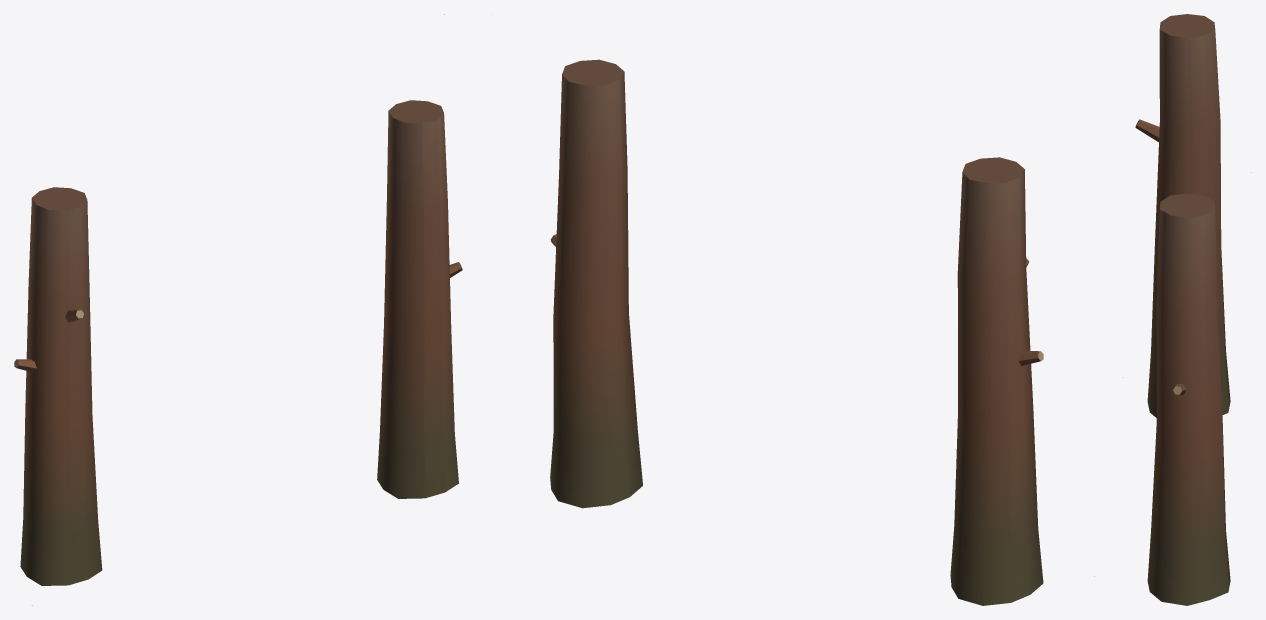
The model's file is CreekGateArch_bark.glb.
The picture shows the model from 3 angles, left to right: view 1: azimuth 30°, elevation 25°; view 2: azimuth 150°, elevation 25°; view 3: azimuth 270°, elevation 25°; orthographic projection. The views are drawn at different scales.
Visible parts, largest first — view 1: CreekGateArch_bark; view 2: CreekGateArch_bark; view 3: CreekGateArch_bark.
Part boxes in pixels (x1,y1,x2,y2): CreekGateArch_bark: (14,14,462,605); CreekGateArch_bark: (550,59,1094,605); CreekGateArch_bark: (1123,14,1251,605).
Bounding box in the file's own units: 14.13 × 12.22 × 3.22.
